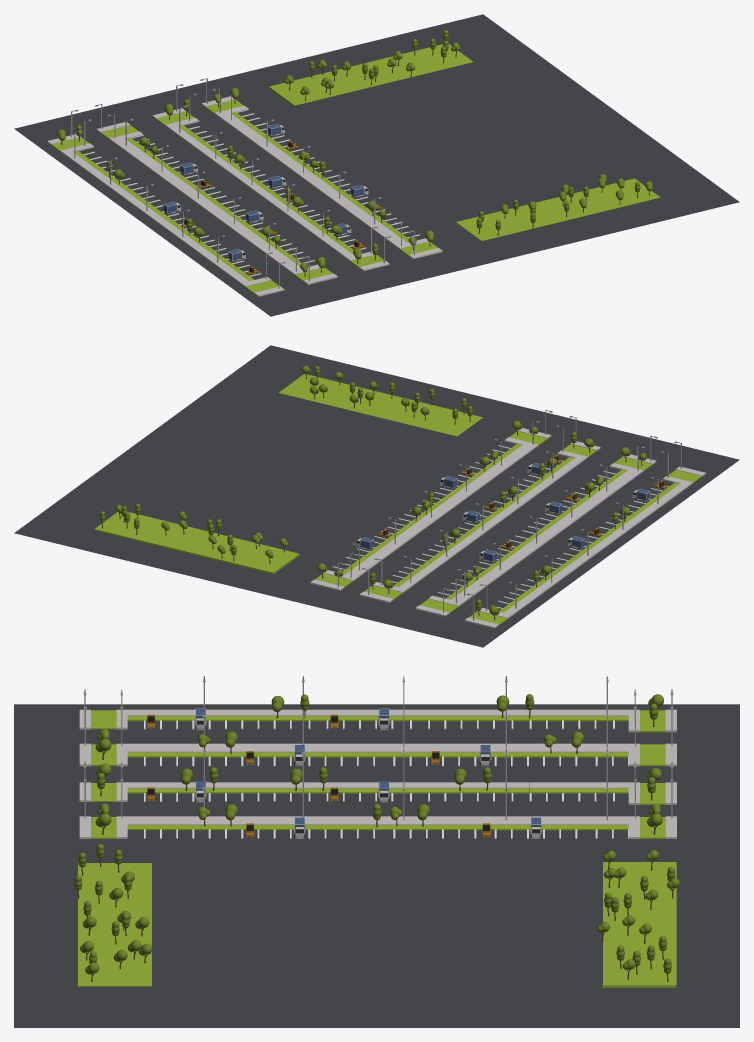
File: parking_lot.gltf
3 views of the same model, one above another, from view 1: azimuth 30°, elevation 25°; view 2: azimuth 150°, elevation 25°; view 3: azimuth 270°, elevation 25° (orthographic). The views are drawn at different scales.
Parts seen in each view (by area): view 1: Plane_Plane.001, Cube.905_Cube.010, Cube.905_Cube.012, Cube.905_Cube.3610, Cube.905_Cube.001, Cube.024_Cube.016, Cube.024_Cube.006, Cube.024_Cube.007, Cube.024_Cube.005, Cube.024_Cube.015, Cube.024_Cube.017, Cube.905_Cube.003 (+14 smaller); view 2: Plane_Plane.001, Cube.905_Cube.012, Cube.905_Cube.010, Cube.905_Cube.001, Cube.905_Cube.3610, Cube.024_Cube.016, Cube.024_Cube.007, Cube.024_Cube.015, Cube.024_Cube.006, Cube.024_Cube.005, Cube.024_Cube.017, Cube.905_Cube.003 (+13 smaller); view 3: Plane_Plane.001, Cube.905_Cube.012, Cube.905_Cube.010, Cube.905_Cube.001, Cube.905_Cube.3610, Cube.024_Cube.016, Cube.024_Cube.007, Cube.024_Cube.006, Cube.024_Cube.017, Cube.024_Cube.005, Cube.024_Cube.015, Cube.024_Cube.014 (+15 smaller).
Boxes of the visible parts, left/top/right/bottom form: Plane_Plane.001: left=14, top=14, right=739, bottom=316; Cube.905_Cube.010: left=456, top=178, right=660, bottom=240; Cube.905_Cube.012: left=269, top=43, right=473, bottom=105; Cube.905_Cube.3610: left=312, top=216, right=442, bottom=259; Cube.905_Cube.001: left=207, top=242, right=337, bottom=284; Cube.024_Cube.016: left=184, top=187, right=245, bottom=220; Cube.024_Cube.006: left=290, top=161, right=350, bottom=194; Cube.024_Cube.007: left=254, top=135, right=314, bottom=168; Cube.024_Cube.005: left=218, top=109, right=270, bottom=142; Cube.024_Cube.015: left=149, top=161, right=203, bottom=194; Cube.024_Cube.017: left=113, top=135, right=173, bottom=168; Cube.905_Cube.003: left=325, top=190, right=378, bottom=221; Plane_Plane.001: left=14, top=345, right=739, bottom=647; Cube.905_Cube.012: left=95, top=512, right=298, bottom=572; Cube.905_Cube.010: left=278, top=374, right=482, bottom=436; Cube.905_Cube.001: left=588, top=454, right=689, bottom=511; Cube.905_Cube.3610: left=483, top=428, right=584, bottom=485; Cube.024_Cube.016: left=504, top=521, right=569, bottom=551; Cube.024_Cube.007: left=373, top=521, right=428, bottom=551; Cube.024_Cube.015: left=467, top=547, right=533, bottom=577; Cube.024_Cube.006: left=398, top=495, right=463, bottom=525; Cube.024_Cube.005: left=333, top=547, right=392, bottom=578; Cube.024_Cube.017: left=437, top=573, right=497, bottom=603; Cube.905_Cube.003: left=447, top=469, right=499, bottom=499; Plane_Plane.001: left=14, top=704, right=739, bottom=1027; Cube.905_Cube.012: left=603, top=862, right=676, bottom=985; Cube.905_Cube.010: left=78, top=863, right=151, bottom=986; Cube.905_Cube.001: left=79, top=709, right=224, bottom=766; Cube.905_Cube.3610: left=79, top=782, right=224, bottom=838; Cube.024_Cube.016: left=326, top=743, right=427, bottom=766; Cube.024_Cube.007: left=427, top=816, right=528, bottom=838; Cube.024_Cube.006: left=326, top=816, right=427, bottom=838; Cube.024_Cube.017: left=529, top=743, right=628, bottom=766; Cube.024_Cube.005: left=528, top=816, right=629, bottom=838; Cube.024_Cube.015: left=427, top=743, right=528, bottom=766; Cube.024_Cube.014: left=428, top=709, right=529, bottom=729.
Bounding box in the file's own units: 20.52 × 1.12 × 19.45.
